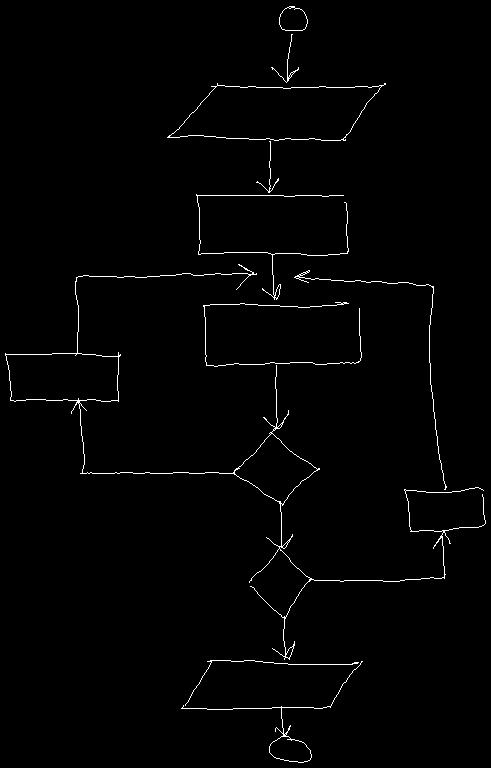arrow: (294, 270, 446, 489), (75, 264, 256, 355), (71, 398, 234, 473), (309, 530, 450, 581), (263, 365, 288, 428), (271, 34, 298, 82), (266, 501, 292, 548), (256, 141, 278, 192), (272, 616, 294, 659), (262, 255, 280, 299), (275, 706, 290, 736)
connection: (269, 736, 311, 762), (279, 6, 307, 30)
data: (167, 83, 385, 140), (181, 660, 362, 709)
decision: (233, 427, 319, 505), (249, 547, 312, 618)
process: (203, 302, 361, 366), (196, 194, 348, 255), (5, 352, 120, 401), (404, 487, 485, 531)
